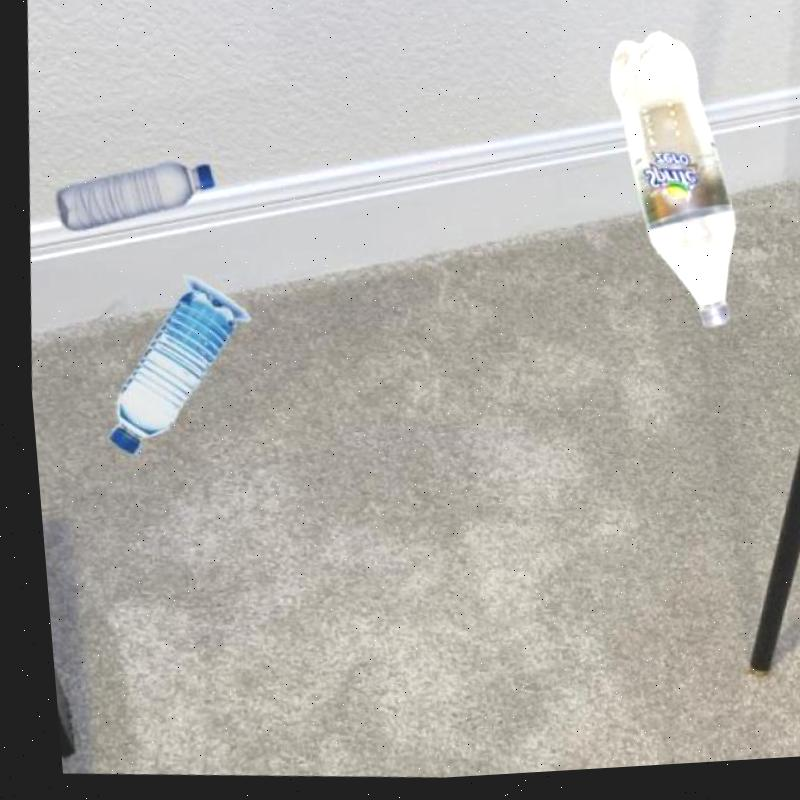botella: (577, 34, 747, 344), (92, 280, 246, 468), (49, 150, 216, 248)
